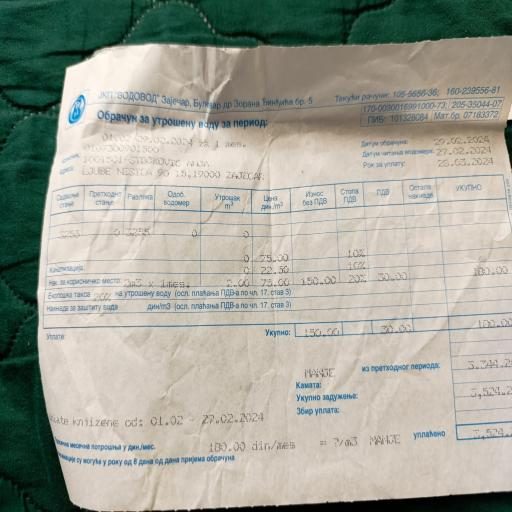voda: (292, 379, 503, 416)
